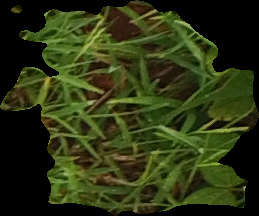grass: (1, 1, 258, 215)
